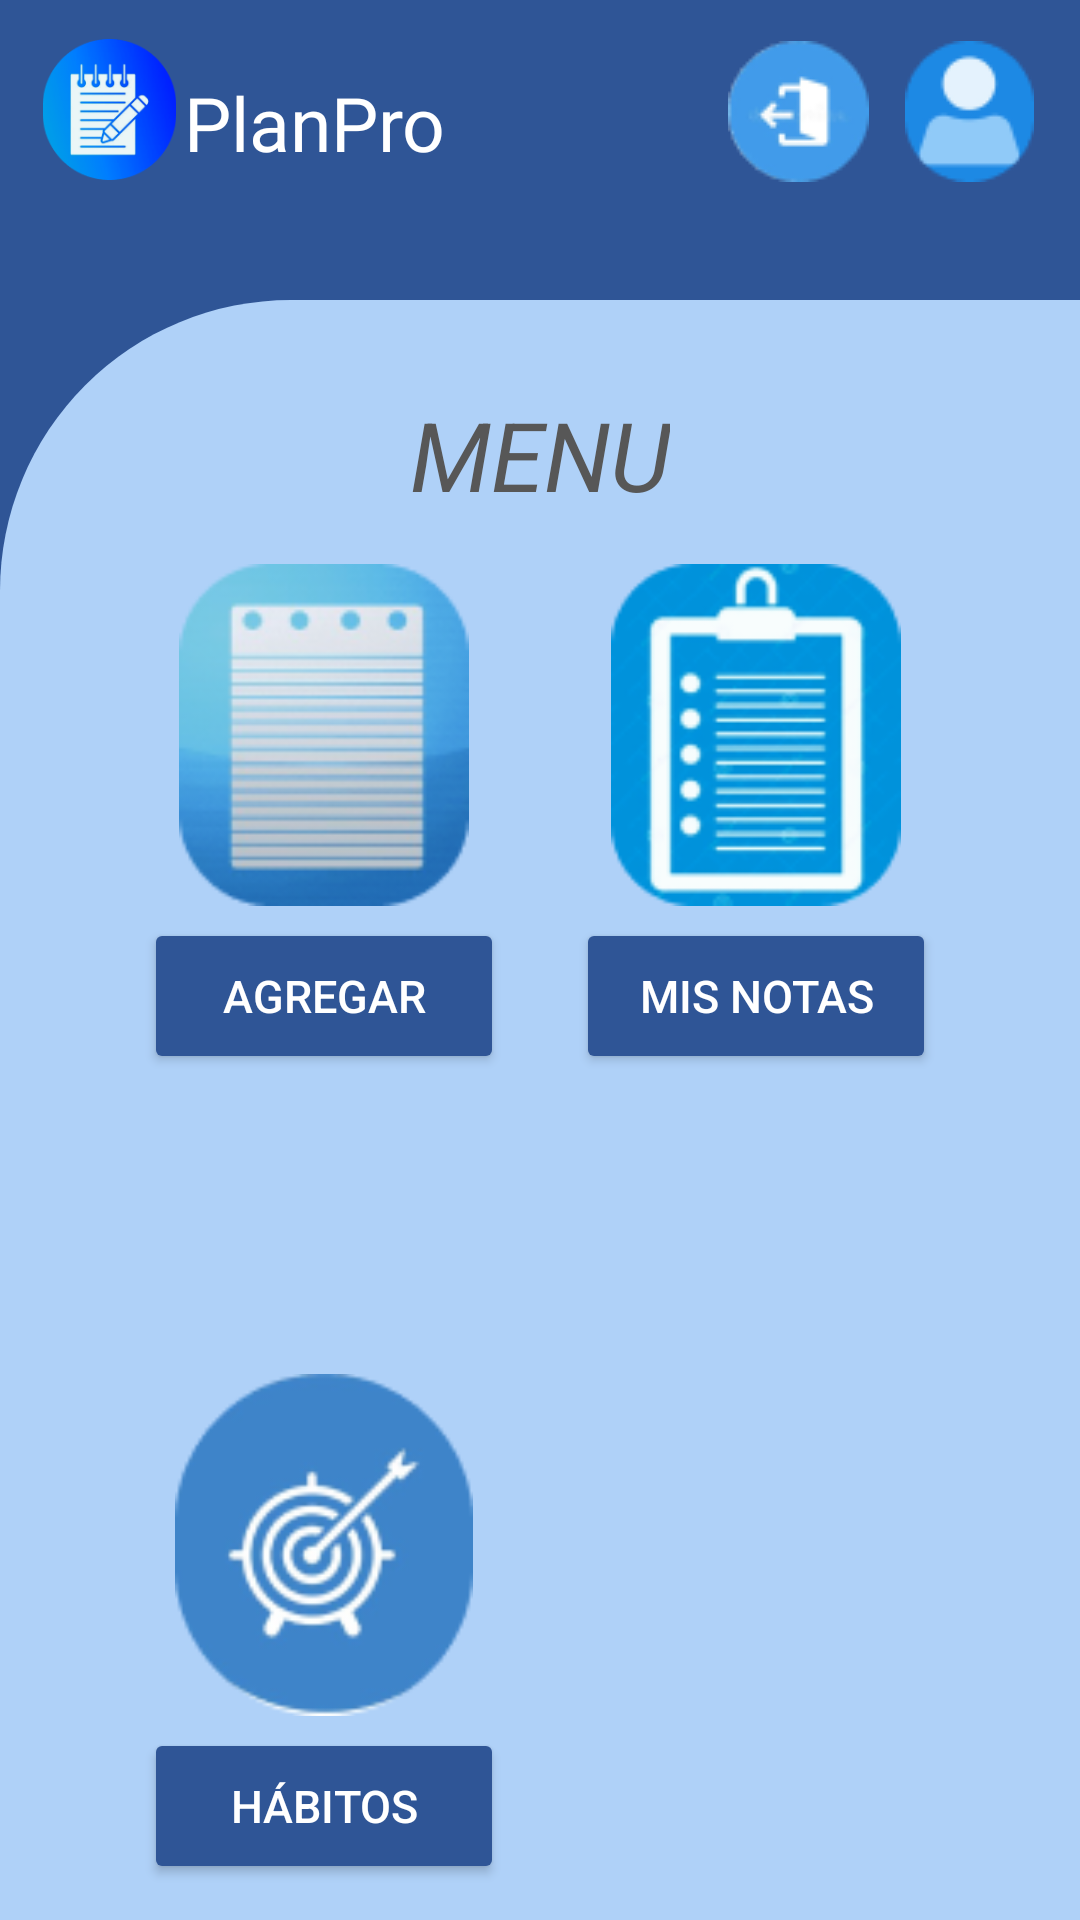

Icon bounding boxes for this 1080px x 1920px phone screenshot, format [x1=x1, y1=y1, x2=x2, y2=y2]:
Salir: [x1=728, y1=41, x2=869, y2=182]
